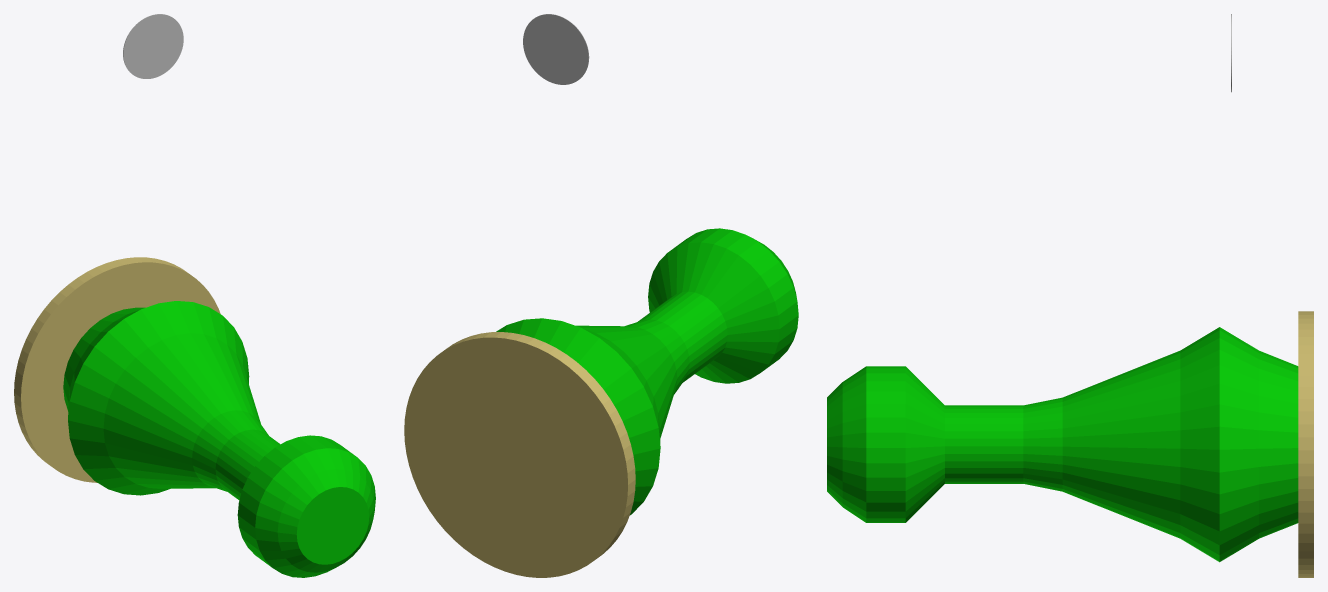
Rendered from green_pawn_with_face.glb.
3 views of the same model, side by side, from view 1: azimuth 30°, elevation 25°; view 2: azimuth 150°, elevation 25°; view 3: azimuth 270°, elevation 25° (orthographic). The views are drawn at different scales.
Visible parts, largest first — view 1: world; view 2: world; view 3: world.
Part boxes in pixels (x1,y1,x2,y2): world: [14, 14, 375, 577]; world: [404, 14, 798, 577]; world: [827, 14, 1313, 577].
Bounding box in the file's own units: 0.34 × 0.77 × 0.62.
